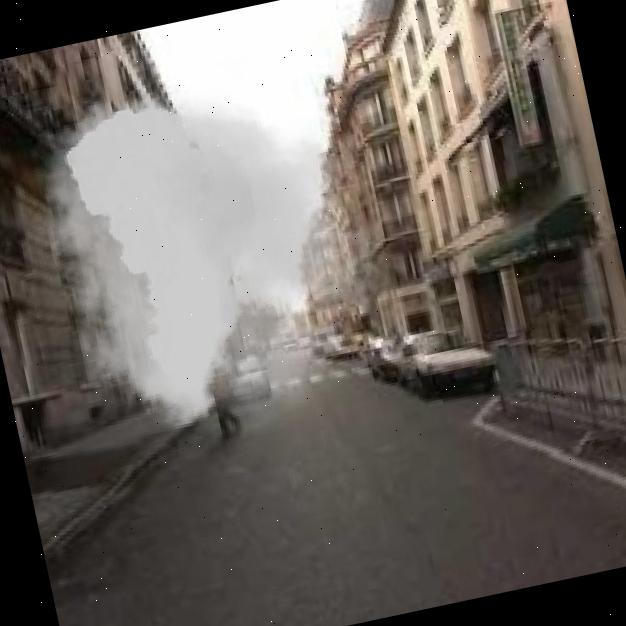smoke: (0, 34, 433, 475)
